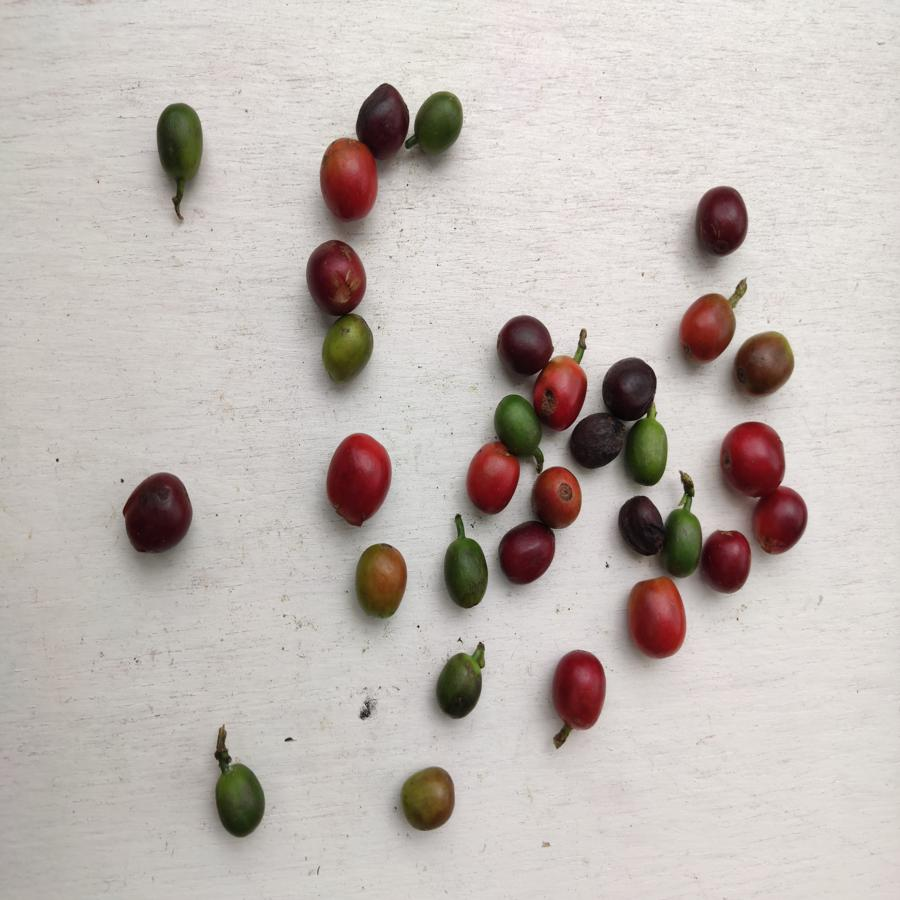Inmaduro: (145, 98, 210, 185), (212, 755, 266, 841), (440, 535, 494, 609), (436, 651, 487, 724), (411, 87, 464, 157), (490, 389, 545, 454), (628, 416, 668, 486), (664, 506, 702, 576)
Maduro: (320, 434, 396, 526), (713, 419, 785, 497), (314, 138, 379, 223), (549, 649, 607, 735), (628, 577, 687, 658), (677, 294, 733, 363), (530, 465, 586, 530), (465, 444, 516, 514), (537, 360, 590, 418)
Pinton: (348, 539, 411, 618), (396, 765, 459, 830), (735, 330, 795, 396), (320, 314, 374, 380)
Sobremaduro: (121, 471, 192, 553), (306, 234, 365, 309), (693, 184, 751, 256), (355, 81, 410, 155), (597, 355, 656, 423), (495, 313, 554, 376), (752, 490, 809, 553), (568, 414, 626, 475), (497, 524, 556, 583), (615, 495, 668, 558), (703, 527, 751, 595)
